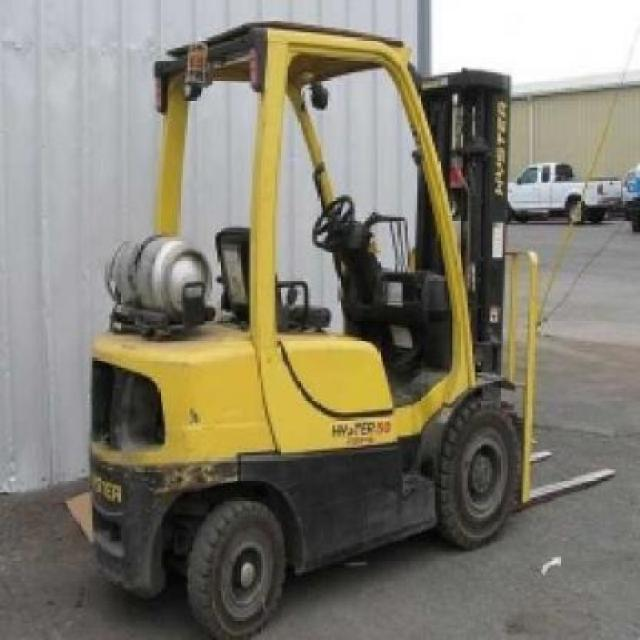forklift: (87, 19, 546, 638)
